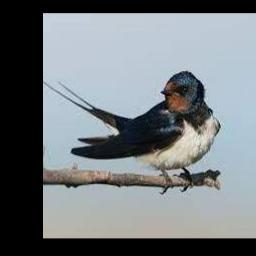Swallow: (43, 71, 219, 190)
